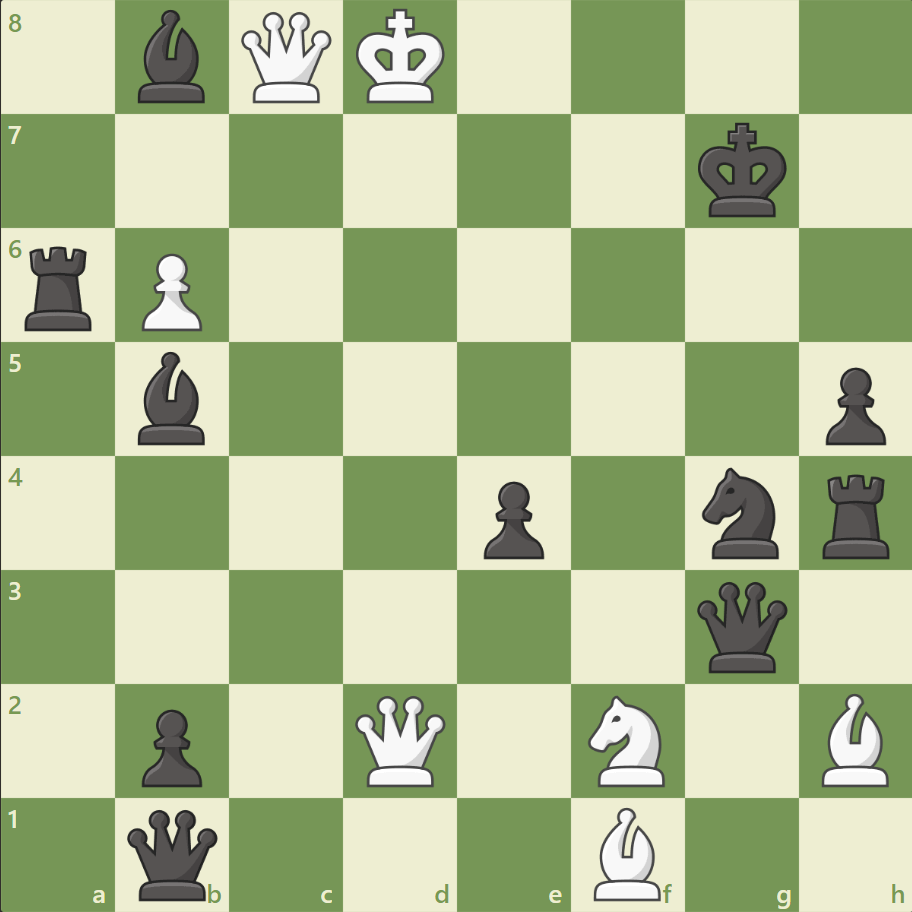B: (812, 687, 896, 790), (585, 801, 669, 904)
K: (351, 4, 451, 112)
N: (579, 688, 676, 791)
P: (133, 246, 208, 337)
Q: (237, 9, 336, 108), (351, 690, 450, 789)
b: (131, 6, 215, 109), (131, 347, 215, 449)
k: (692, 117, 792, 225)
n: (692, 461, 789, 564)
p: (474, 473, 549, 564), (133, 700, 208, 791), (815, 359, 889, 450)
q: (691, 576, 790, 676), (124, 804, 223, 903)
r: (19, 239, 102, 336), (814, 466, 897, 563)
